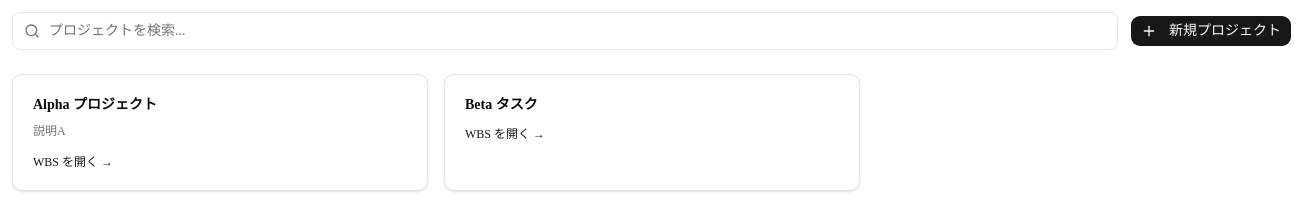
Test: ProjectList › 検索フィルタリング › ProjectList_検索欄に文字を入力したとき_一致するプロジェクトのみ表示される
Type "Alpha" into the search field at (565, 31), box [12,12,1118,50]
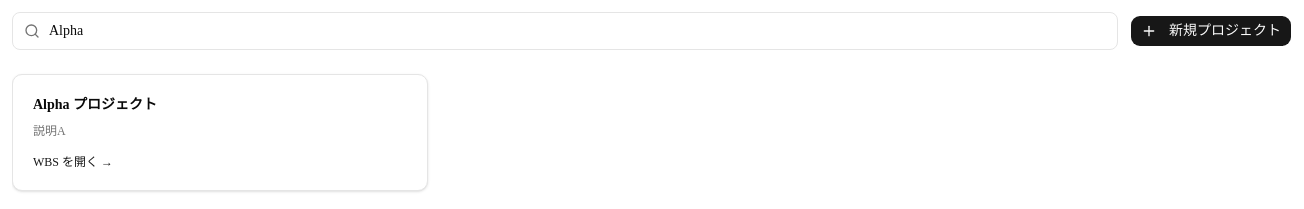
expect the heading "Alpha プロジェクト" is shown: met, box [33,97,157,112]
expect the heading "Beta タスク" is gone: met
